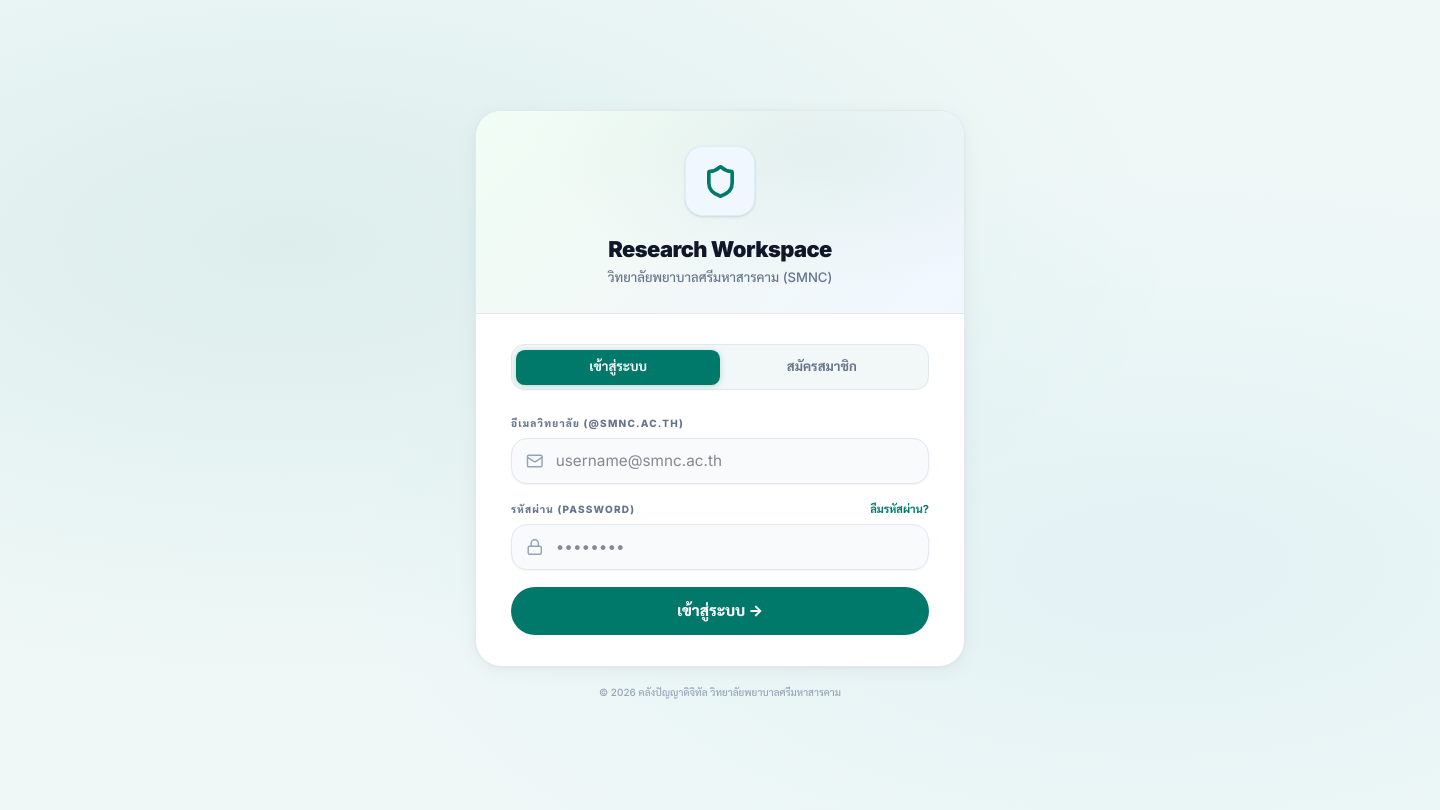
Test: AuthScreen component (Login & Registration Flow) › displays error alert when login fails
Type "wronguser@smnc.ac.th" into the field with placeholder "username@smnc.ac.th" at (720, 461), box x1=511 y1=438 x2=929 y2=484
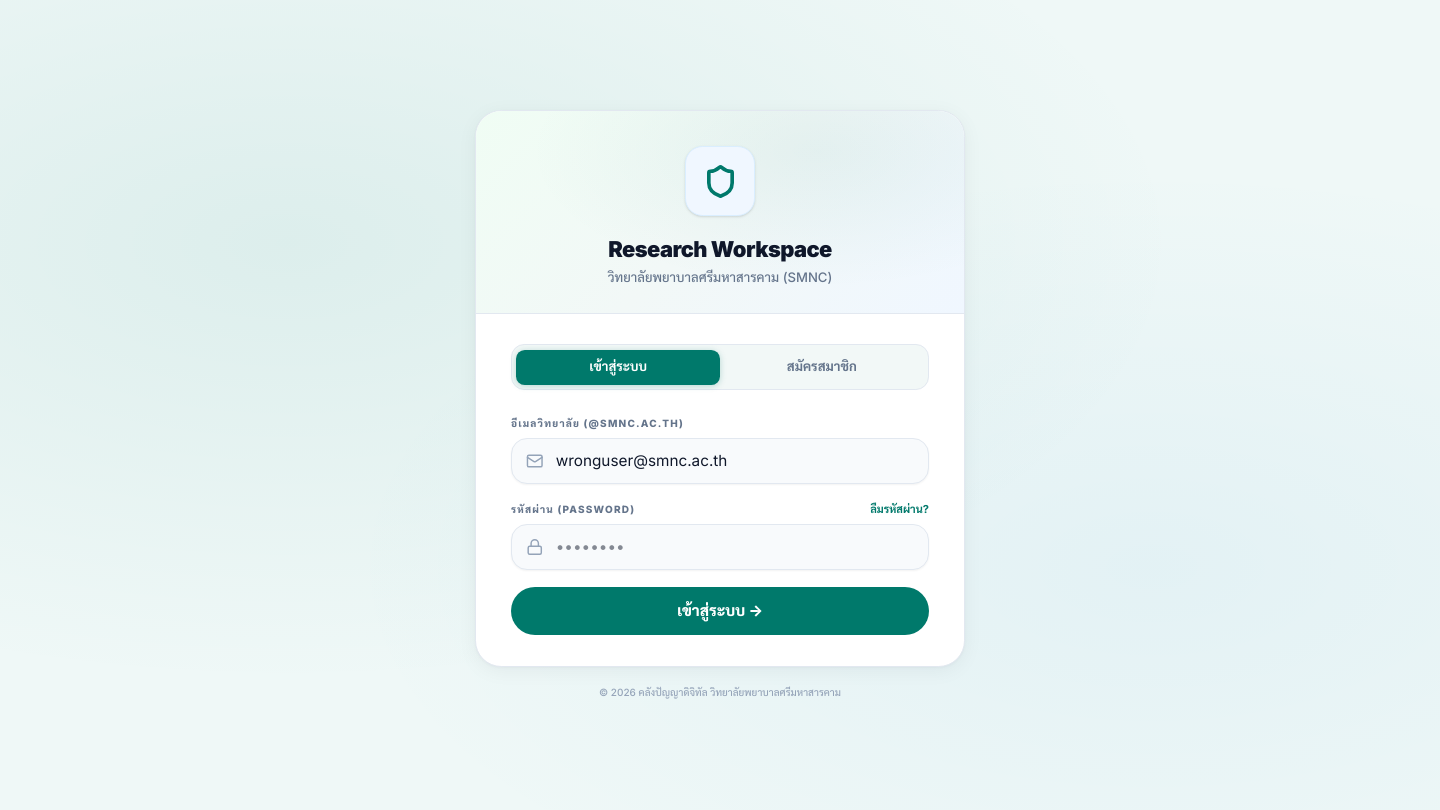
Type "wrongpass" into the password field with placeholder "••••••••" at (720, 547), box x1=511 y1=524 x2=929 y2=570
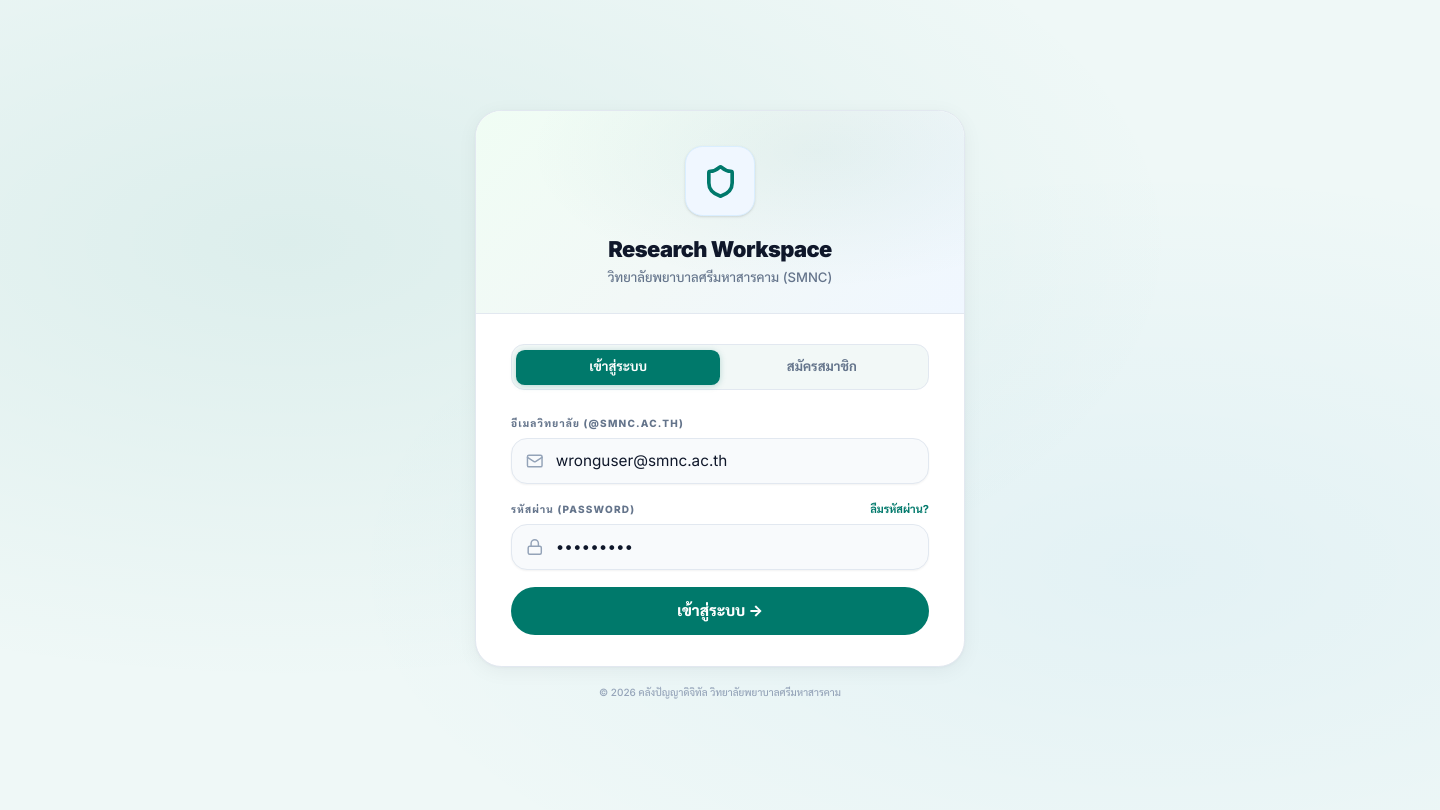
Click the button "เข้าสู่ระบบ →" at (720, 611), box x1=511 y1=587 x2=929 y2=636
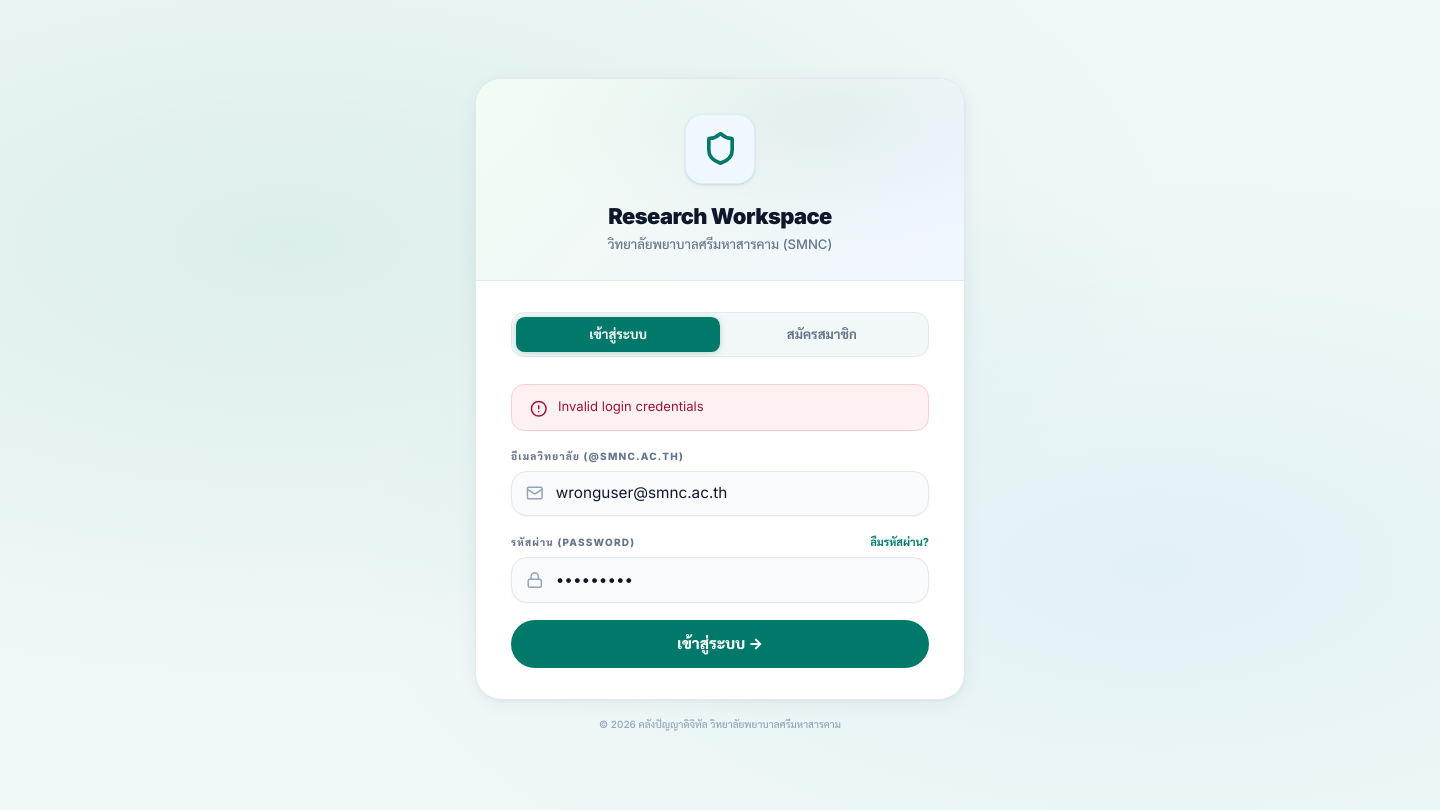
Expected: the text "Invalid login credentials" is shown, x1=558 y1=398 x2=704 y2=415
